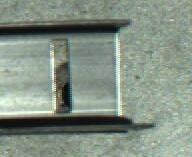40ngpress: (12, 20, 141, 129)
